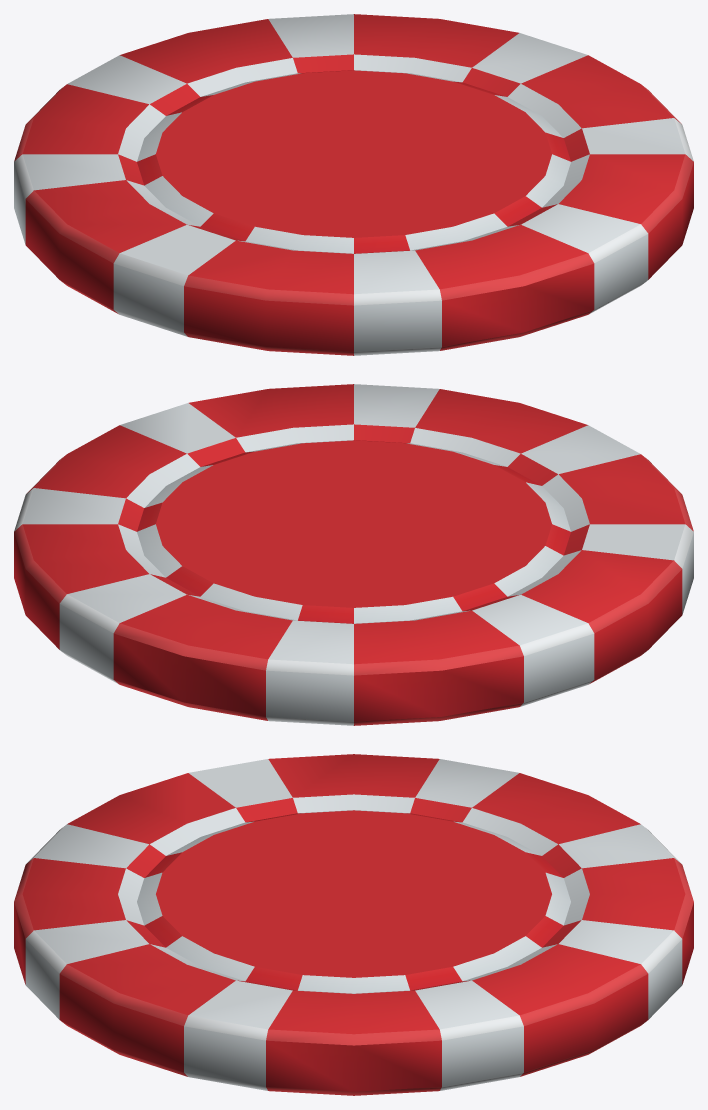
File: chip_B_red.gltf
3 renders of one model, top to bottom at view 1: azimuth 30°, elevation 25°; view 2: azimuth 150°, elevation 25°; view 3: azimuth 270°, elevation 25°, orthographic.
Parts seen in each view (by area): view 1: chip_B_red; view 2: chip_B_red; view 3: chip_B_red.
Part boxes in pixels (box(x1,y1,x2,y2)): chip_B_red: box(14, 14, 693, 355); chip_B_red: box(14, 384, 693, 725); chip_B_red: box(14, 754, 693, 1095).
Size of the model in its own units: 3 by 0.3 by 3.
Materials: 1 (1 with a texture image).
